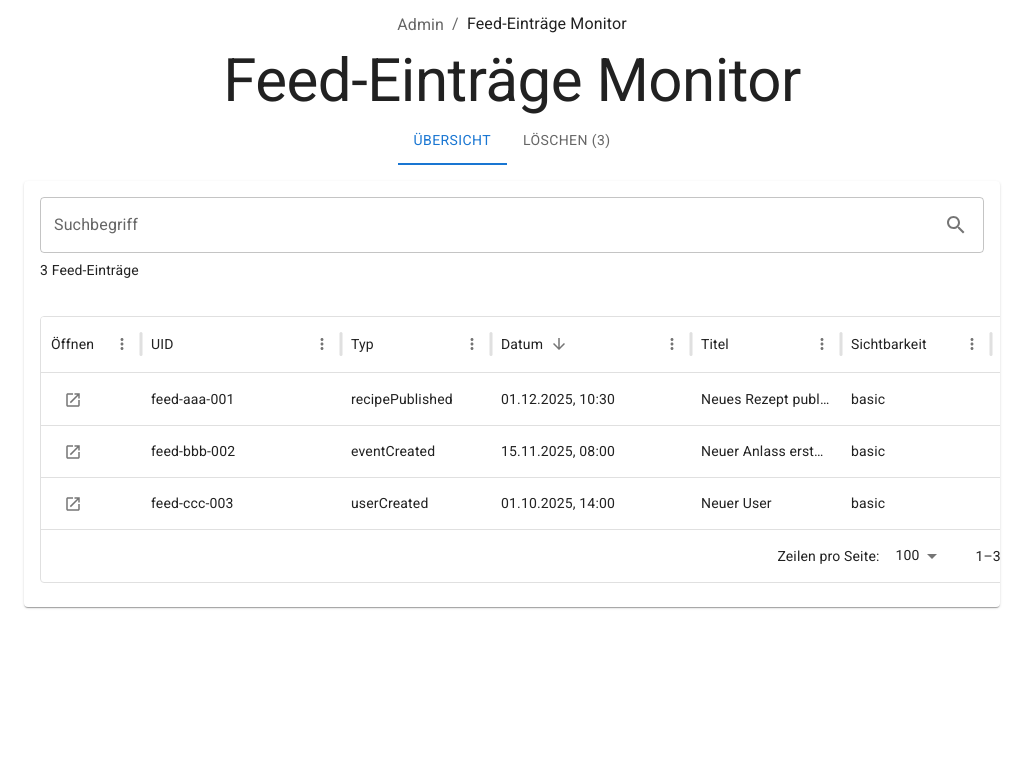
Test: 7 – Gefilterte Anzahl wird korrekt angezeigt
Type "Beat" into the field at (486,225), box left=40, top=197, right=931, bottom=253
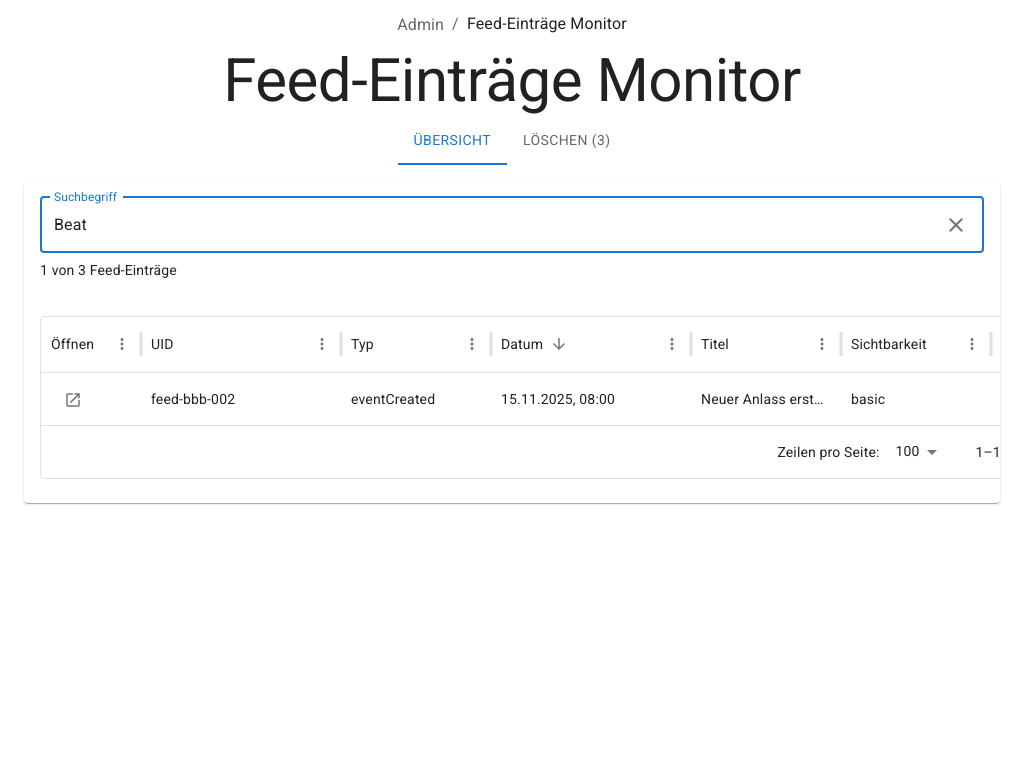
Now the text "1 von 3 Feed-Einträge" is shown, box left=40, top=262, right=177, bottom=278
